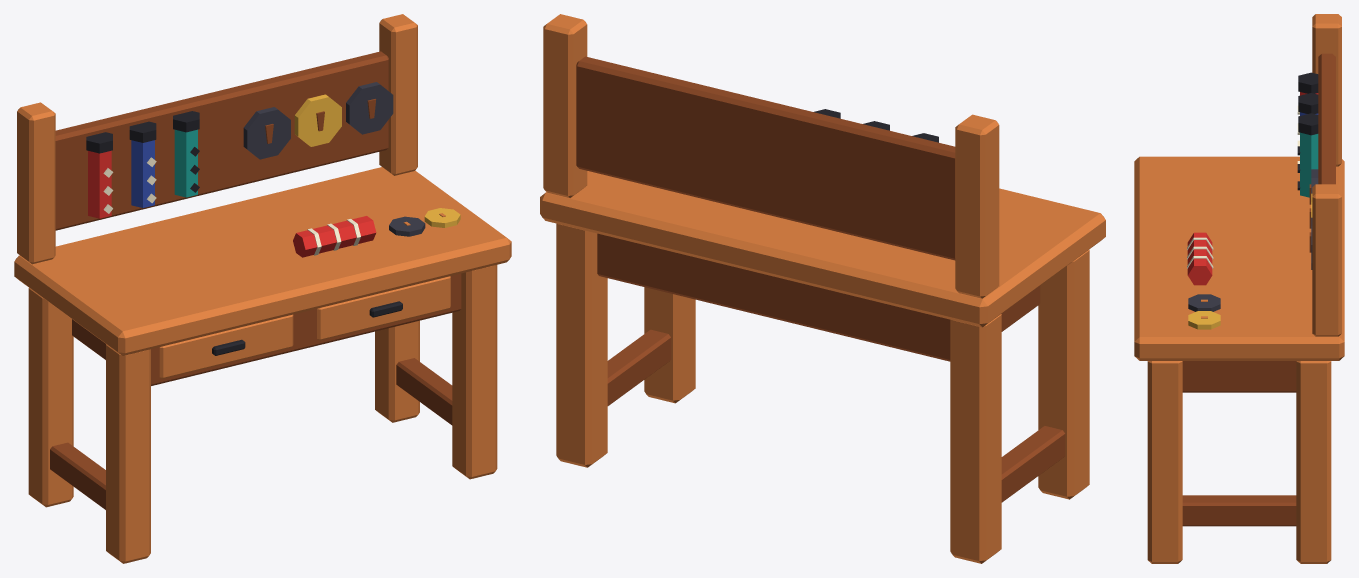
Rendered from HiltBench.fbx.
3 renders of one model, left to right at view 1: azimuth 30°, elevation 25°; view 2: azimuth 150°, elevation 25°; view 3: azimuth 270°, elevation 25°, orthographic. The views are drawn at different scales.
Visible parts, largest first — view 1: Top, Board, Leg, Leg.002, Leg.001, BoardPost, BoardPost.001, Drawer, Drawer.001, Apron, Leg.003, Stretcher.001 (+8 smaller); view 2: Board, Top, Apron, Leg.001, Leg.003, Leg, BoardPost, BoardPost.001, Leg.002, Stretcher, Stretcher.001; view 3: Top, Leg.002, Leg.003, BoardPost.001, Apron, Stretcher.001, Board, BoardPost, WorkGrip, PegGrip2, WorkTsuba1, WorkTsuba0 (+3 smaller).
Boxes of the visible parts, <box> form: Top: <box>14,167,511,355</box>; Board: <box>55,51,388,230</box>; Leg: <box>106,344,150,563</box>; Leg.002: <box>452,265,497,479</box>; Leg.001: <box>28,288,73,507</box>; BoardPost: <box>17,102,55,264</box>; BoardPost.001: <box>379,14,417,175</box>; Drawer: <box>159,314,293,378</box>; Drawer.001: <box>317,276,450,340</box>; Apron: <box>72,273,461,385</box>; Leg.003: <box>375,320,419,422</box>; Stretcher.001: <box>396,358,452,425</box>; Board: <box>576,56,955,260</box>; Top: <box>540,171,1105,327</box>; Apron: <box>597,233,1040,361</box>; Leg.001: <box>950,314,1001,563</box>; Leg.003: <box>556,223,607,467</box>; Leg: <box>1038,250,1089,499</box>; BoardPost: <box>955,114,999,298</box>; BoardPost.001: <box>543,14,587,197</box>; Leg.002: <box>644,287,695,403</box>; Stretcher: <box>1001,426,1065,502</box>; Stretcher.001: <box>607,329,671,405</box>; Top: <box>1134,156,1344,360</box>; Leg.002: <box>1147,361,1182,563</box>; Leg.003: <box>1296,361,1331,563</box>; BoardPost.001: <box>1312,184,1341,336</box>; Apron: <box>1182,361,1296,392</box>; Stretcher.001: <box>1182,495,1296,526</box>; Board: <box>1318,53,1335,184</box>; BoardPost: <box>1312,14,1341,166</box>; WorkGrip: <box>1187,232,1212,285</box>; PegGrip2: <box>1300,132,1318,197</box>; WorkTsuba1: <box>1188,311,1220,329</box>; WorkTsuba0: <box>1188,294,1220,311</box>.
Size of the model in its own units: 500 by 470 by 240.
